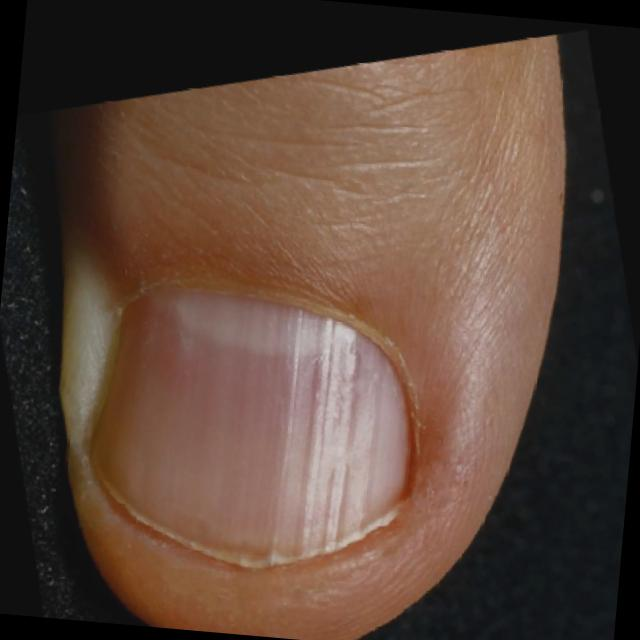Nail: (91, 287, 410, 565)
